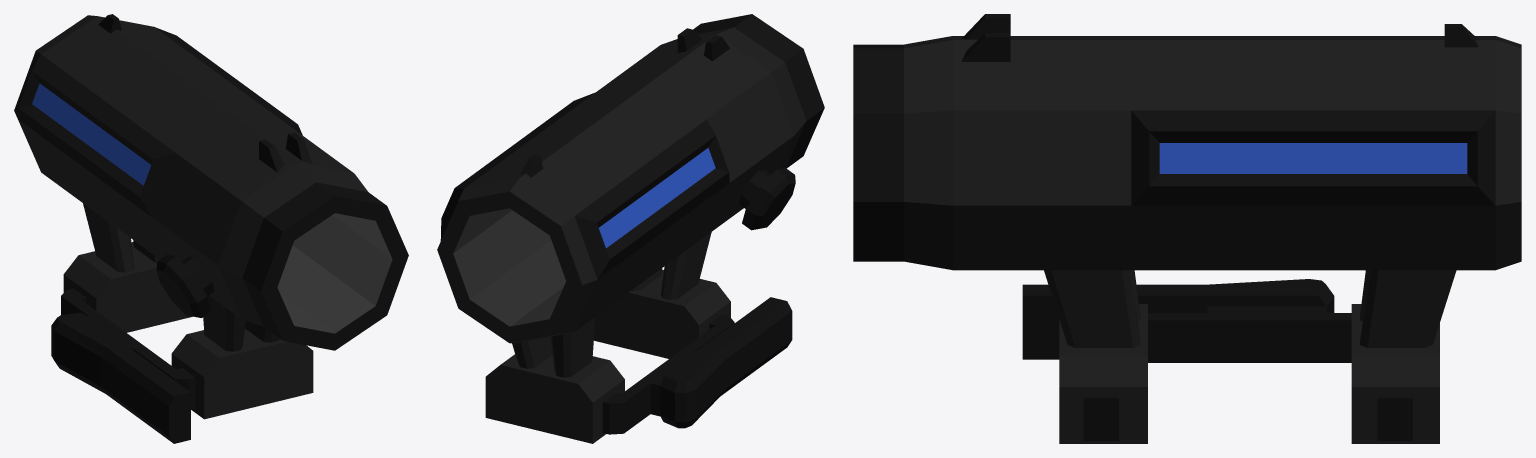
File: Magnified_West.glb
3 renders of one model, left to right at view 1: azimuth 30°, elevation 25°; view 2: azimuth 150°, elevation 25°; view 3: azimuth 270°, elevation 25°, orthographic. The views are drawn at different scales.
Parts seen in each view (by area): view 1: Magnified_West; view 2: Magnified_West; view 3: Magnified_West.
Boxes of the visible parts, box(x1,y1,x2,y2) form: Magnified_West: box(14, 14, 408, 443); Magnified_West: box(437, 14, 824, 443); Magnified_West: box(853, 14, 1521, 443).
Bounding box in the file's own units: 0.0539 × 0.0746 × 0.1166.
